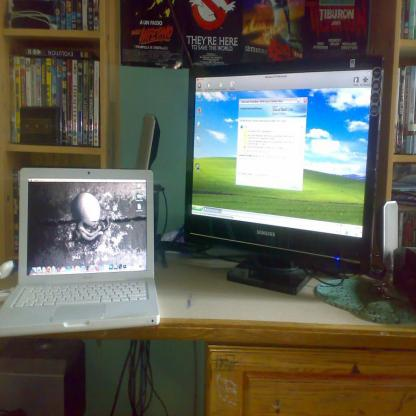board: (2, 158, 163, 341)
